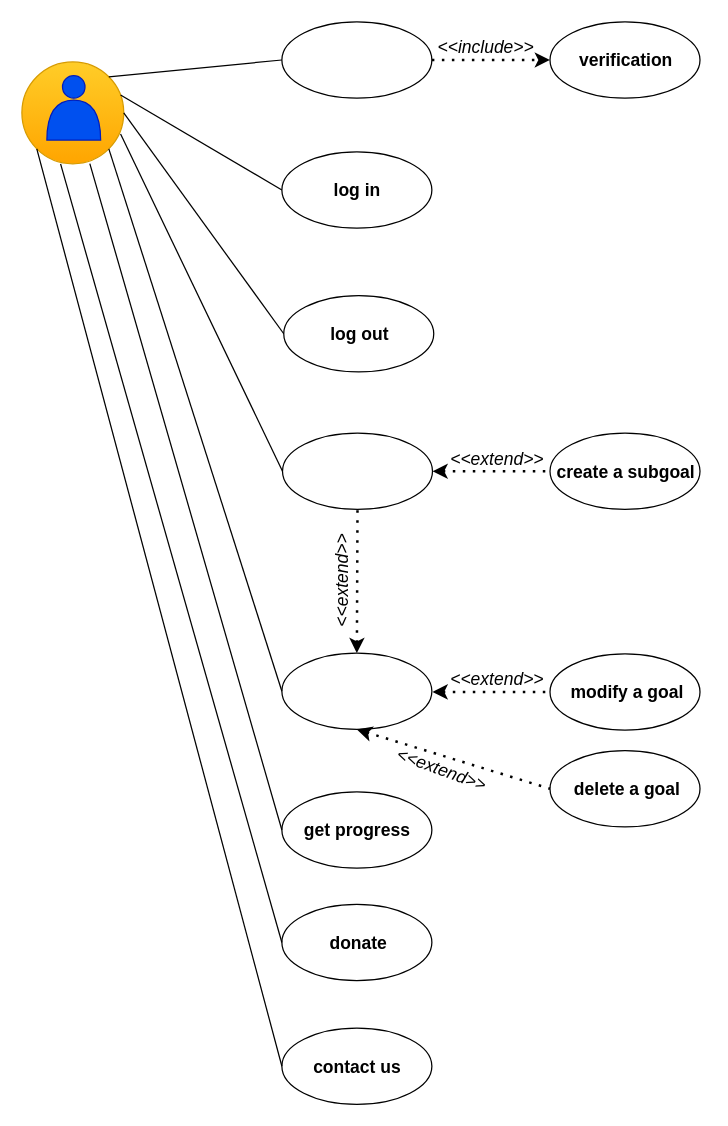
Some shapes in this 728 by 1126 pixel diagram are drawn without their labels. Each missing label, with the centre of its shape:
create a goal: the point at 356,470
manage your goals: the point at 356,690
Sign up: the point at 356,59
